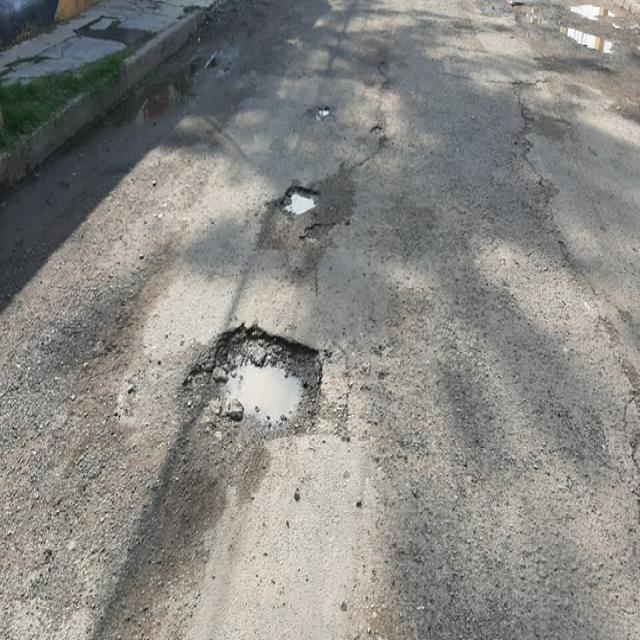Pothole: (190, 274, 393, 501), (260, 149, 346, 282), (305, 76, 355, 154)
